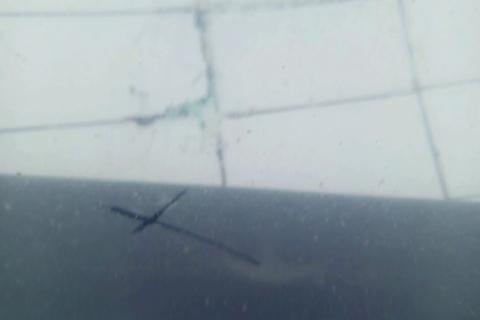keretakan: (92, 187, 263, 269)
